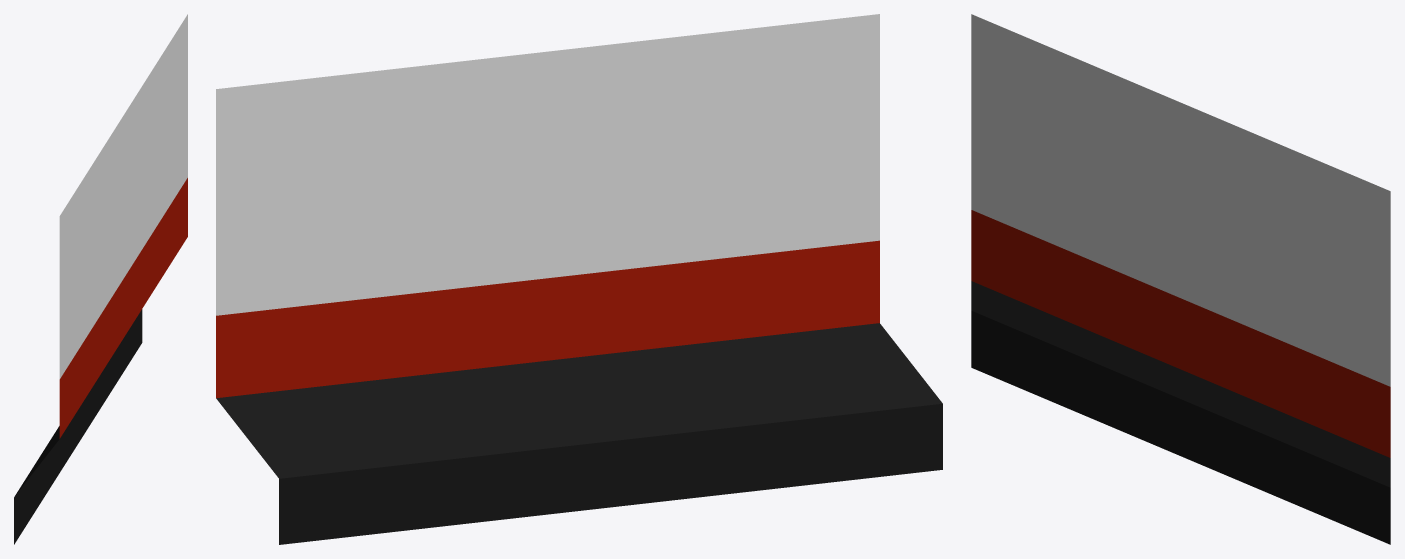
Rendered from S_assete_basement_wall_8.fbx.
The picture shows the model from 3 angles, left to right: view 1: azimuth 30°, elevation 25°; view 2: azimuth 150°, elevation 25°; view 3: azimuth 270°, elevation 25°; orthographic projection. The views are drawn at different scales.
Visible parts, largest first — view 1: S_basement_wall_hard_outside_corner_1; view 2: S_basement_wall_hard_outside_corner_1; view 3: S_basement_wall_hard_outside_corner_1.
Part boxes in pixels (left/top/right/bottom): S_basement_wall_hard_outside_corner_1: left=14, top=14, right=187, bottom=544; S_basement_wall_hard_outside_corner_1: left=216, top=14, right=942, bottom=544; S_basement_wall_hard_outside_corner_1: left=971, top=14, right=1390, bottom=544.
Bounding box in the file's own units: 230 × 200 × 200.
